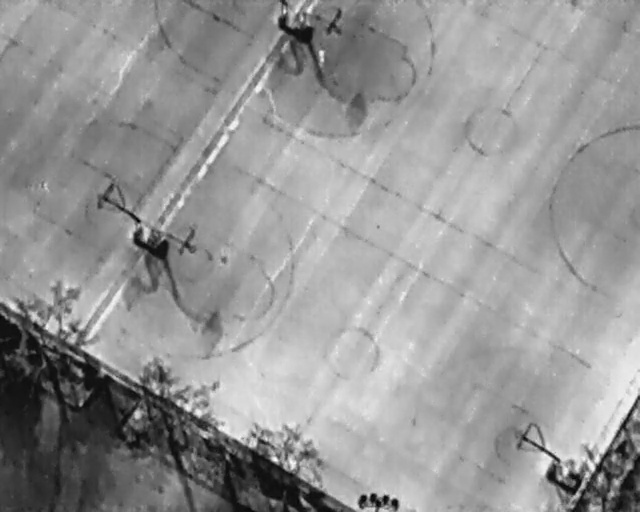Person: (316, 45, 326, 67)
